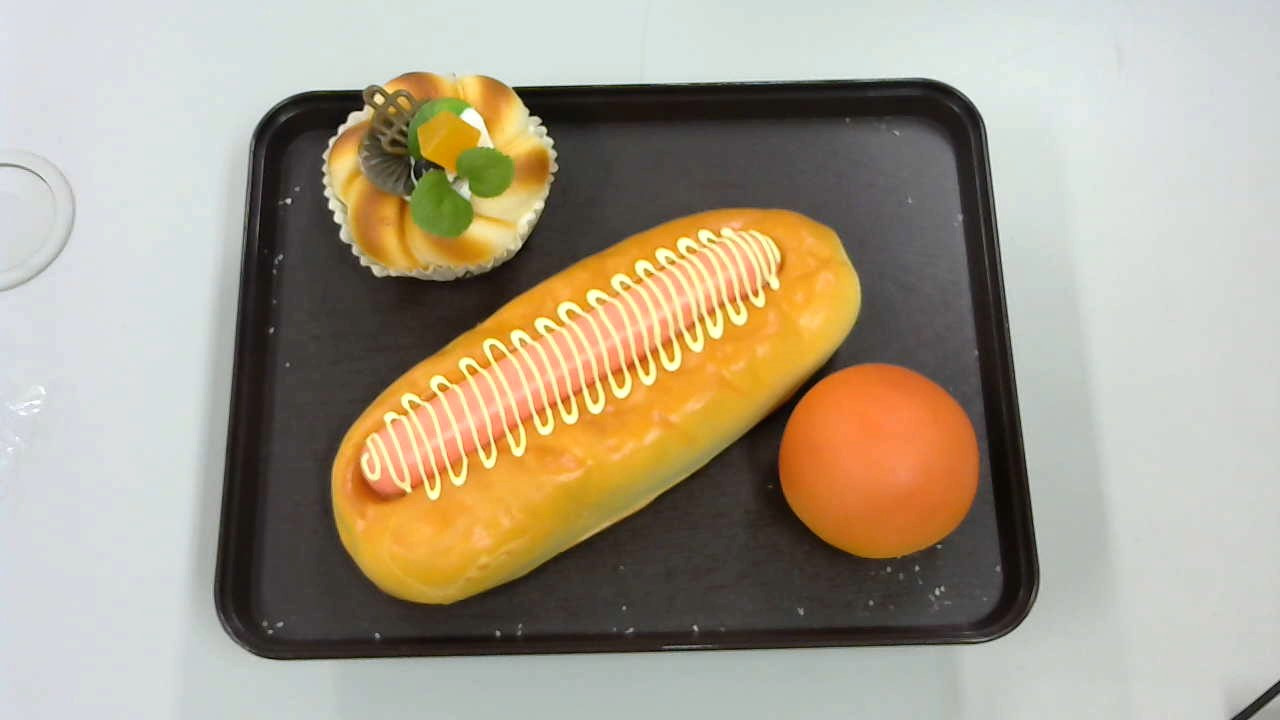bun: (779, 361, 979, 558)
fruit tart: (321, 72, 558, 279)
hot dog: (329, 206, 862, 606)
